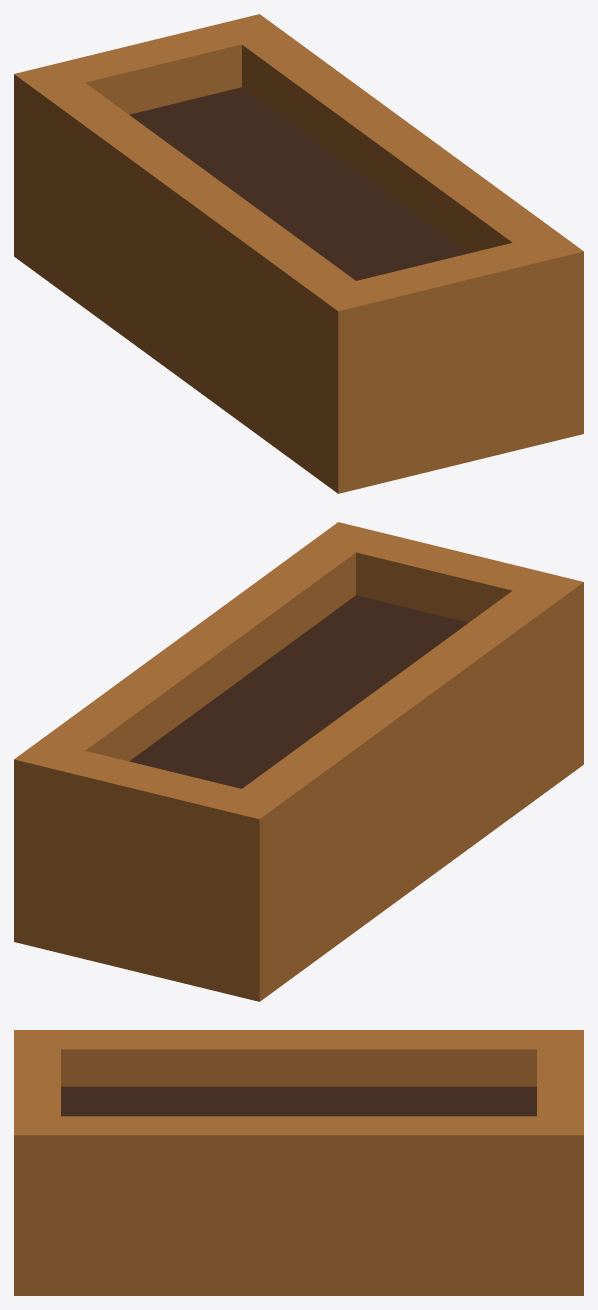
The model's file is flower_pot_small3.fbx.
The picture shows the model from 3 angles, top to bottom: view 1: azimuth 30°, elevation 25°; view 2: azimuth 150°, elevation 25°; view 3: azimuth 270°, elevation 25°; orthographic projection. The views are drawn at different scales.
Visible parts, largest first — view 1: flower_pot_wide; view 2: flower_pot_wide; view 3: flower_pot_wide.
Boxes of the visible parts, x1,y1,x2,y2 form: flower_pot_wide: [14, 14, 583, 493]; flower_pot_wide: [14, 522, 583, 1001]; flower_pot_wide: [14, 1030, 583, 1295].
Size of the model in its own units: 68.37 by 29.9 by 21.23.
